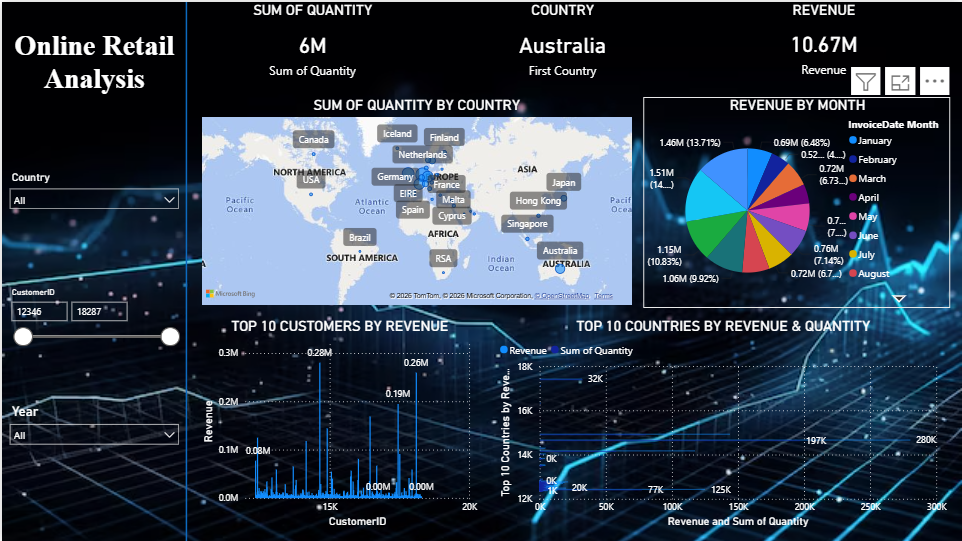

The dashboard page shown, as its layout file describes it:
{"tool":"powerbi","page":{"name":"Executive Sales & Demand Overview – 2011","canvas":[1280,720],"ordinal":0},"visuals":[{"type":"card","title":"Sum of quantity ","fields":{"Values":["Sum(Online Retail.Quantity)"]},"box":[244.3,0,338.6,111.4],"z":0},{"type":"card","title":"Revenue ","fields":{"Values":["Online Retail.Revenue"]},"box":[911.4,0,368.6,110],"z":1000},{"type":"card","title":"country ","fields":{"Values":["Min(Online Retail.Country)"]},"box":[582.9,0,328.6,111.4],"z":2000},{"type":"slicer","fields":{"Values":["Online Retail.Country"]},"box":[0,127.1,245.7,95.7],"z":3000},{"type":"textbox","box":[0,0,245.7,127.1],"z":4000},{"type":"slicer","fields":{"Values":["Online Retail.InvoiceDate.Variation.Date Hierarchy.Year"]},"box":[0,328.6,245.7,95.7],"z":5000},{"type":"slicer","fields":{"Values":["Online Retail.CustomerID"]},"box":[0,232.9,245.7,95.7],"z":6000},{"type":"lineChart","fields":{"Category":["Online Retail.InvoiceDate.Variation.Date Hierarchy.Month"],"Y":["Online Retail.Revenue"]},"box":[245.7,127.1,394.3,278.6],"z":7000},{"type":"shape","box":[104.3,0,281.4,720],"z":8000},{"type":"clusteredColumnChart","title":"Top 10 Customers by Revenue","fields":{"Category":["Online Retail.CustomerID"],"Y":["Online Retail.Revenue"]},"box":[245.7,405.7,395.7,314.3],"z":9000},{"type":"clusteredBarChart","title":"Top 10 Countries by Revenue & Quantity","fields":{"Category":["Online Retail.CustomerID","Online Retail.Country"],"Y":["Online Retail.Revenue","Sum(Online Retail.Quantity)"]},"box":[641.4,405.7,638.6,314.3],"z":10000},{"type":"map","title":"Global Product Demand by Country","fields":{"Category":["Online Retail.Country"],"Size":["Sum(Online Retail.Quantity)"]},"box":[640,111.4,640,294.3],"z":11000}]}

Visuals, with their boxes in screenshot pixels (x1, y1, x2, y2), scaled from the page's 1280x720 canvas onto the 962x541 screenshot:
"Sum of quantity " card: [184, 0, 438, 84]
"Revenue " card: [685, 0, 961, 83]
"country " card: [438, 0, 685, 84]
slicer - Online Retail.Country: [0, 96, 185, 167]
textbox: [0, 0, 185, 96]
slicer - Online Retail.InvoiceDate.Variation.Date Hierarchy.Year: [0, 247, 185, 319]
slicer - Online Retail.CustomerID: [0, 175, 185, 247]
lineChart - Online Retail.InvoiceDate.Variation.Date Hierarchy.Month x Online Retail.Revenue: [185, 96, 481, 305]
shape: [78, 0, 290, 540]
"Top 10 Customers by Revenue" clusteredColumnChart: [185, 305, 482, 540]
"Top 10 Countries by Revenue & Quantity" clusteredBarChart: [482, 305, 961, 540]
"Global Product Demand by Country" map: [481, 84, 961, 305]
